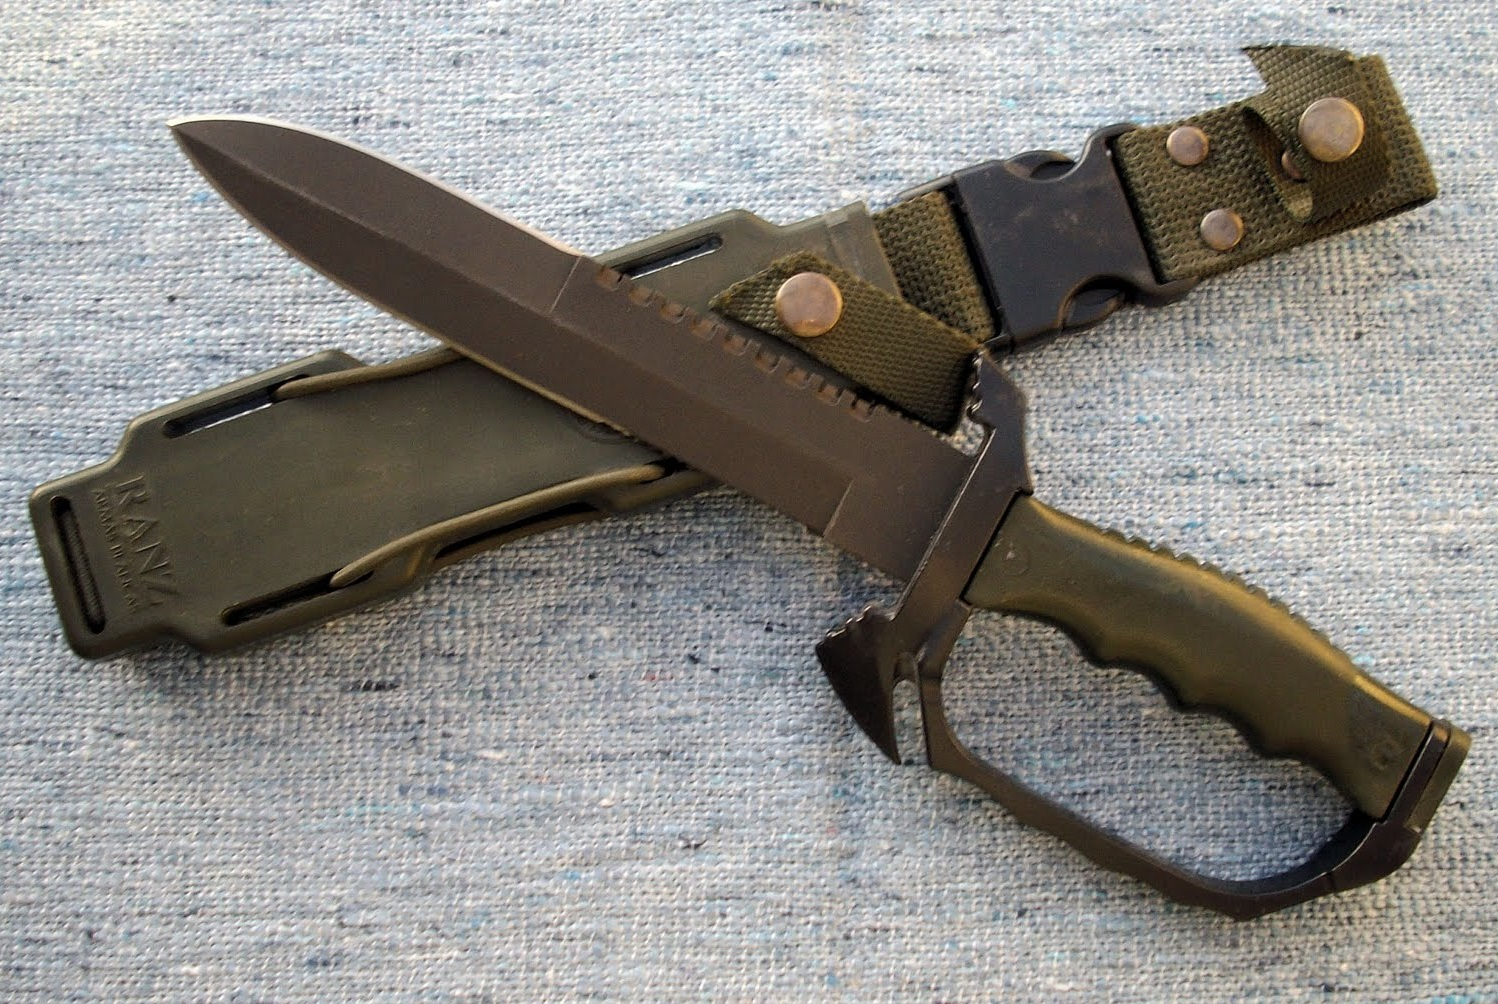knife: (155, 94, 981, 591)
